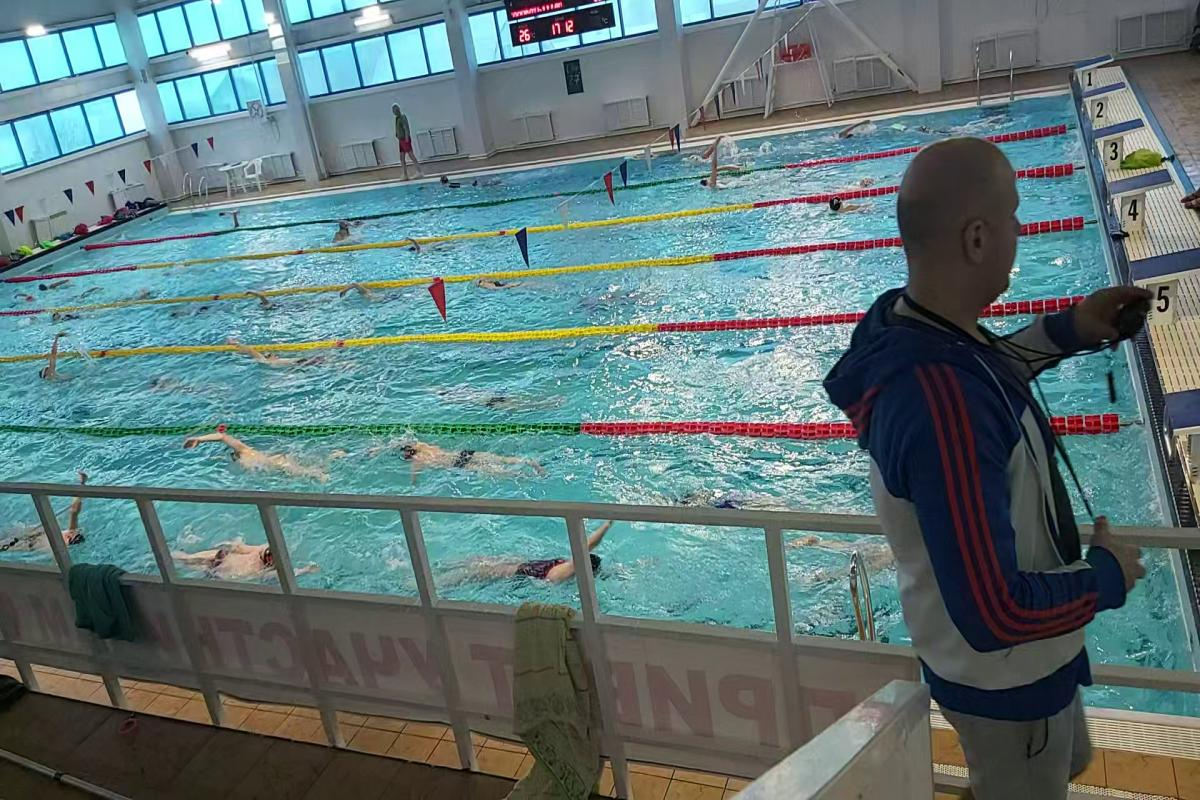swimmer: (444, 524, 614, 594), (182, 514, 322, 582), (380, 436, 548, 484), (190, 432, 338, 484), (239, 339, 355, 378), (445, 379, 554, 417), (669, 480, 783, 509), (29, 340, 84, 389), (340, 282, 414, 308), (245, 292, 306, 317), (326, 218, 373, 247), (49, 304, 94, 326)
